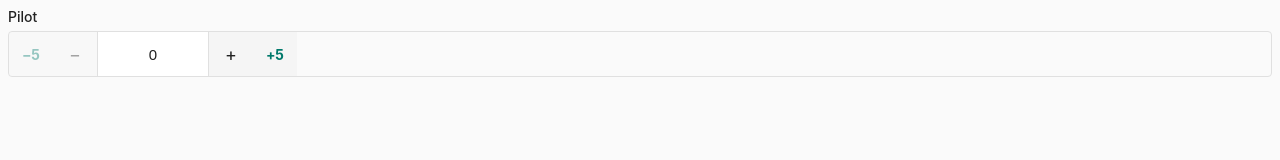
it: MassStationInput — "e"/out-of-range rejection feedback › shows a transient inline hint and error border when a forbidden character is blocked
Replace the text in the field labelled "Pilot" with "1e2" at (153, 54), box [97, 32, 209, 76]
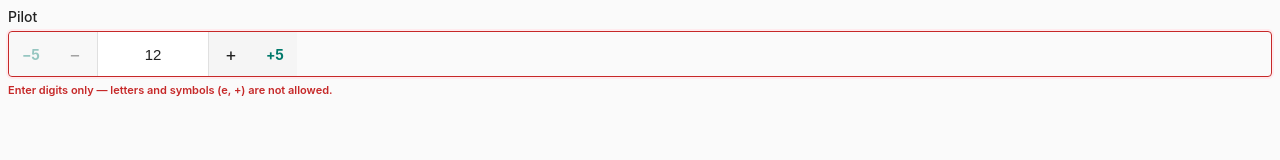
Expected: the message "Enter digits only — letters and symbols (e, +) are not allowed." is shown, [8, 83, 332, 97]
Expected: the element with class "mass-station-input--rejected" is shown
